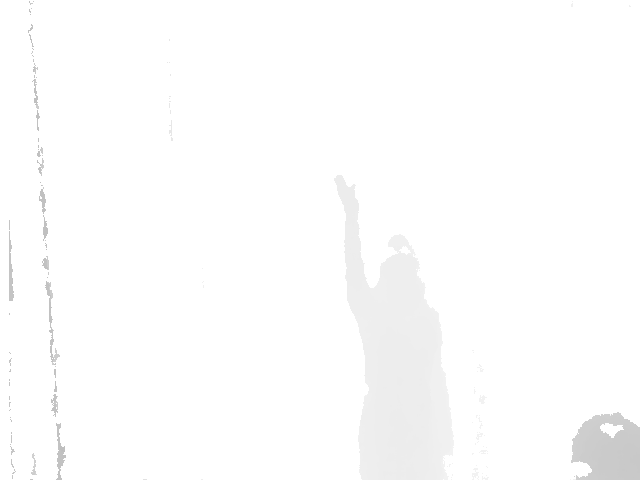hand: (332, 172, 360, 211)
head: (377, 235, 425, 305)
person: (331, 174, 462, 480)
